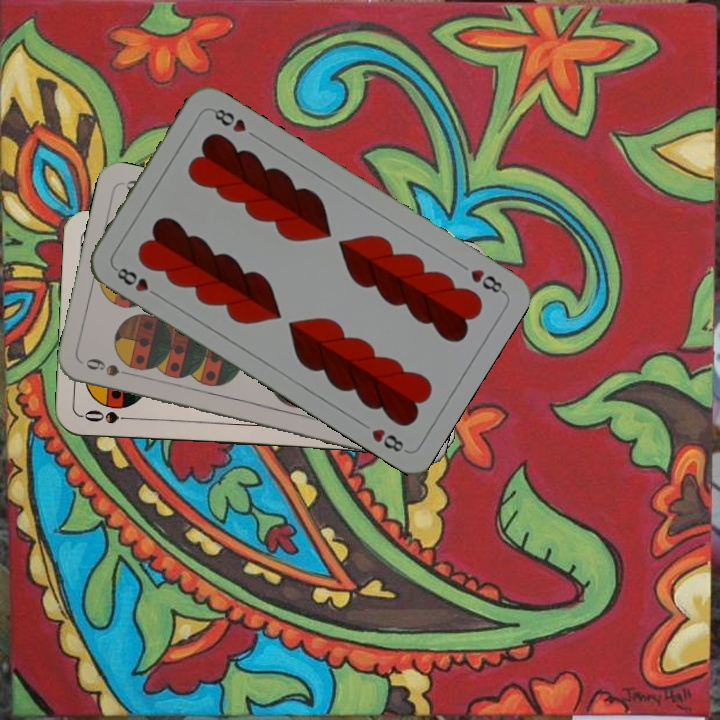H8: (110, 263, 163, 300), (466, 265, 507, 296)
S9: (81, 354, 139, 380)
SO: (79, 406, 138, 427)
